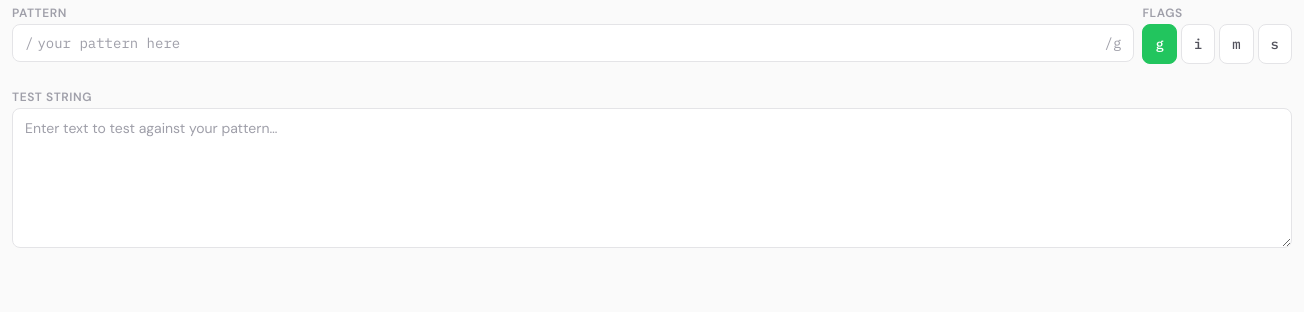
Test: RegexTesterTool › shows error message for invalid regex patterns
Type "INVALID(" into the field with placeholder "your pattern here" at {"x": 569, "y": 43}, box [37, 25, 1101, 61]
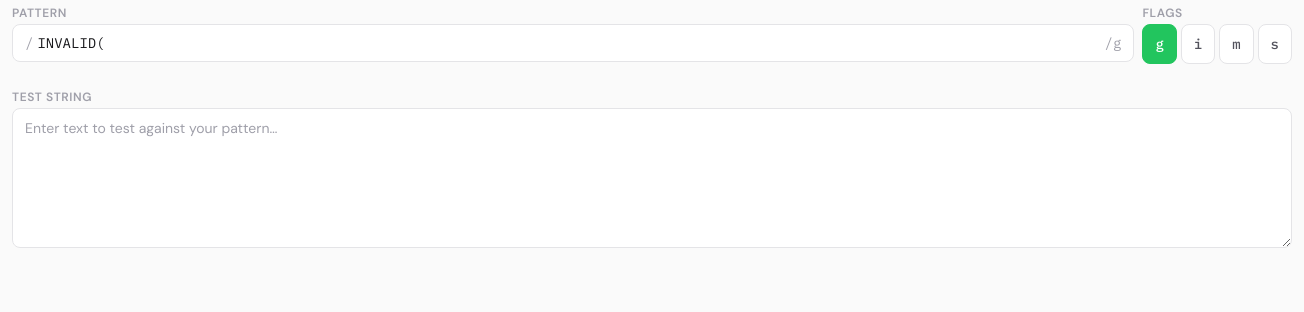
Type "some text" into the text box with placeholder "Enter text to test against your pattern…" at {"x": 652, "y": 178}, box [12, 108, 1292, 248]
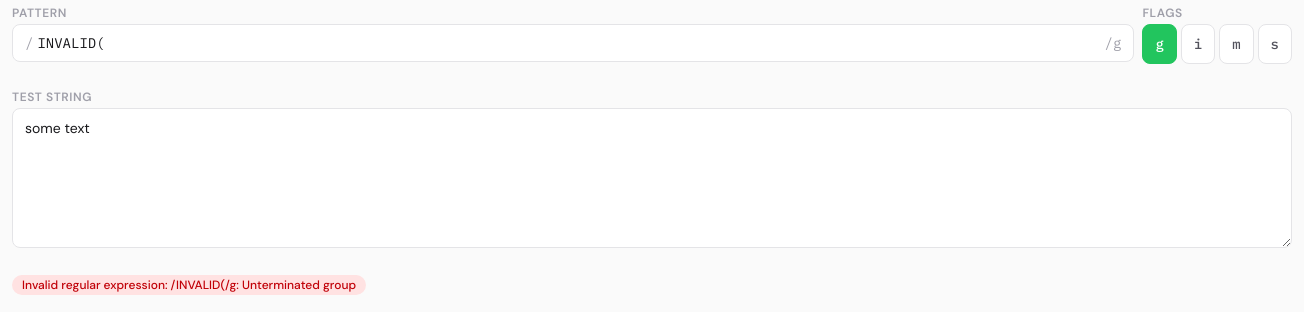
Check: the text "Invalid regular expression" is shown, box [22, 277, 356, 293]
